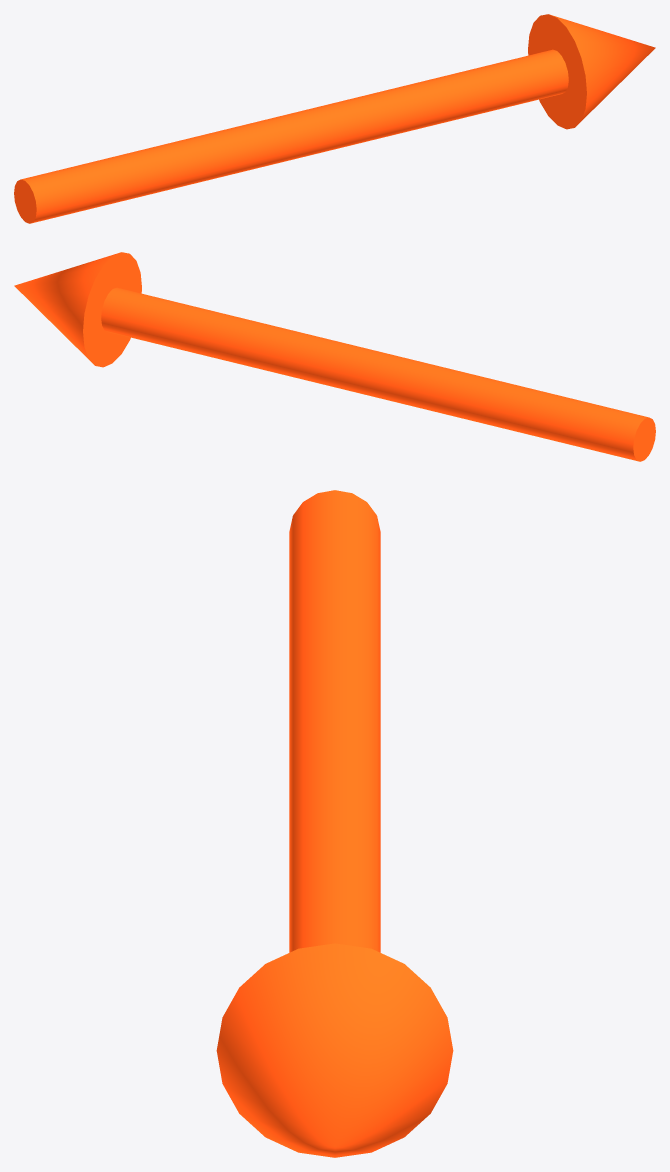
The model's file is m2p_crawler_dozer_flow.glb.
The picture shows the model from 3 angles, top to bottom: view 1: azimuth 30°, elevation 25°; view 2: azimuth 150°, elevation 25°; view 3: azimuth 270°, elevation 25°; orthographic projection. The views are drawn at different scales.
Parts seen in each view (by area): view 1: push; view 2: push; view 3: push.
Boxes of the visible parts, <box> form: push: <box>14,14,655,223</box>; push: <box>14,252,655,461</box>; push: <box>216,490,453,1157</box>.
Bounding box in the file's own units: 2.56 × 0.416 × 0.416.
